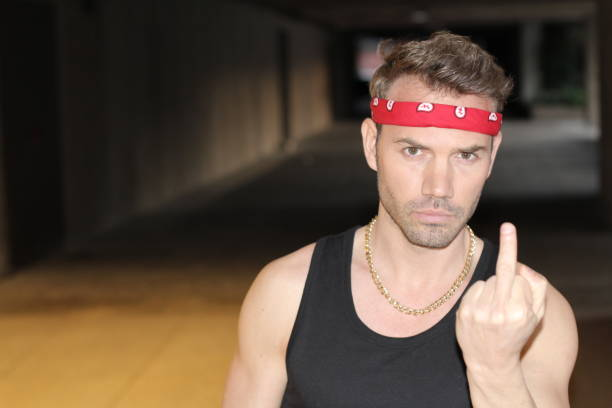insulting_gesture: (455, 219, 548, 364)
